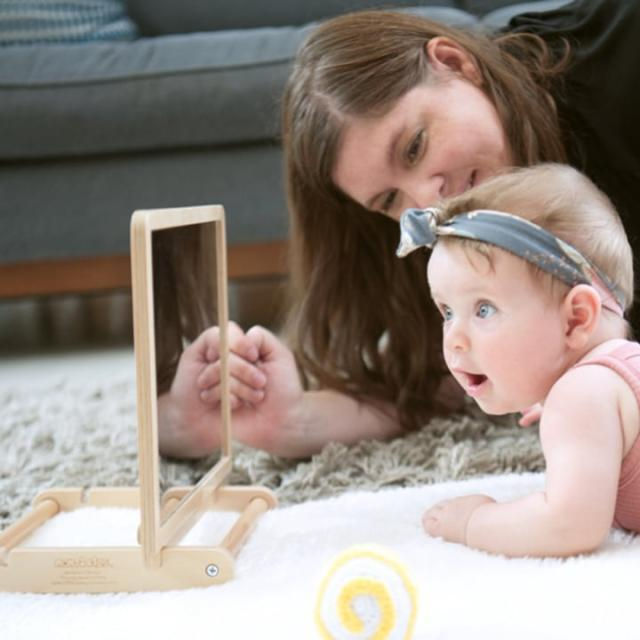non-dog: (155, 0, 640, 464), (394, 160, 640, 557)
